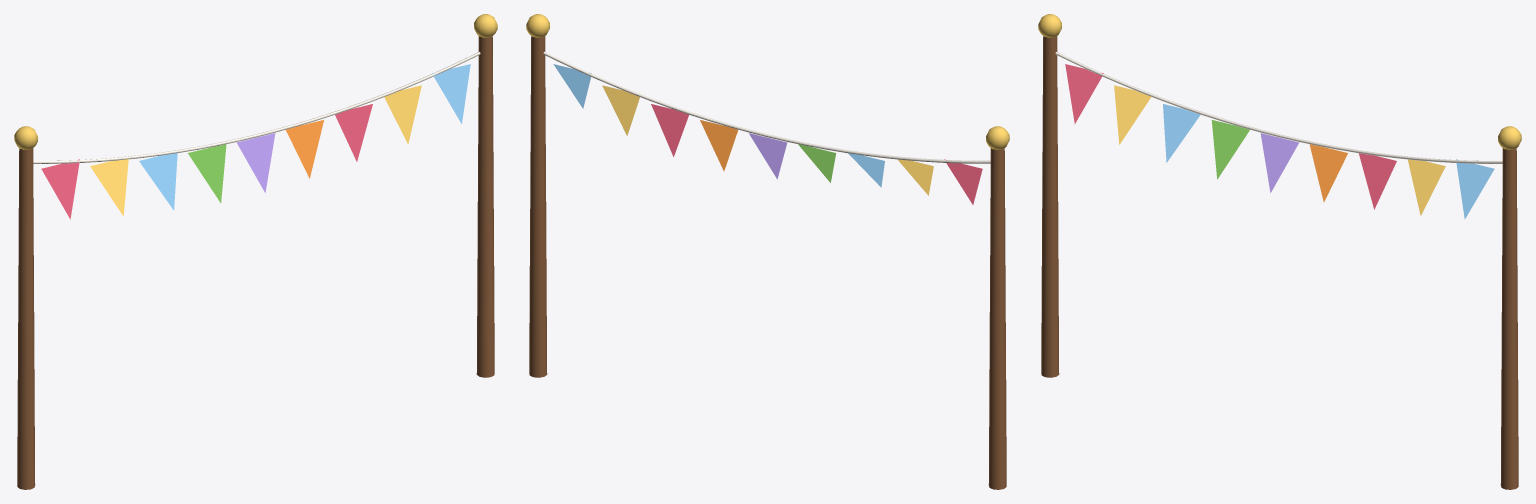
The model's file is clothesline-flags.glb.
3 renders of one model, left to right at view 1: azimuth 30°, elevation 25°; view 2: azimuth 150°, elevation 25°; view 3: azimuth 330°, elevation 25°, orthographic.
Bounding box in the file's own units: 2.72 × 1.94 × 0.2102.
